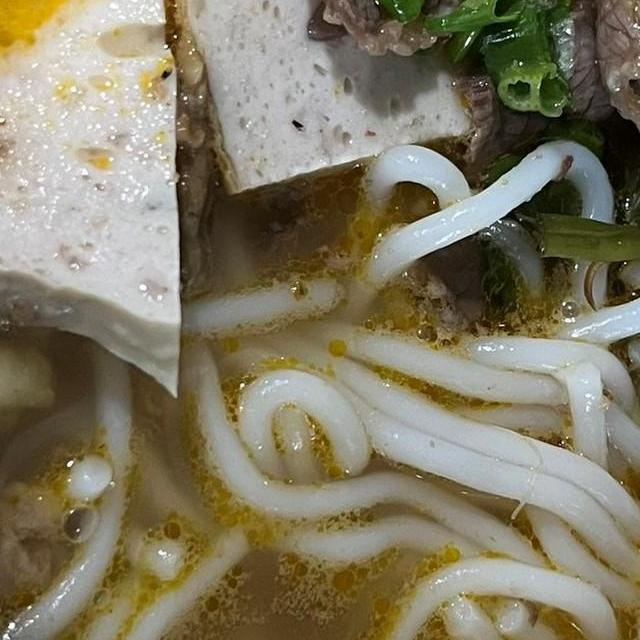bun: (0, 111, 640, 640)
bun bo: (0, 0, 640, 640)
thit bo: (146, 0, 634, 130)
